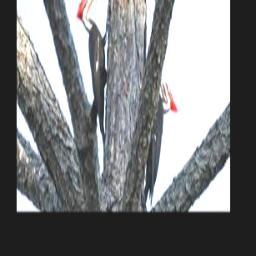Woodpecker: (77, 0, 110, 146), (144, 67, 178, 205)
